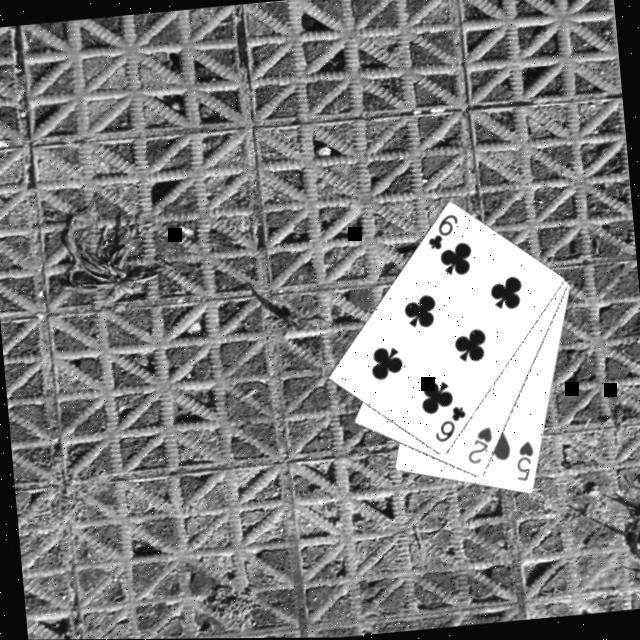2H: (462, 422, 498, 467)
5H: (512, 436, 540, 484)
6C: (430, 402, 472, 446), (423, 210, 464, 253)
